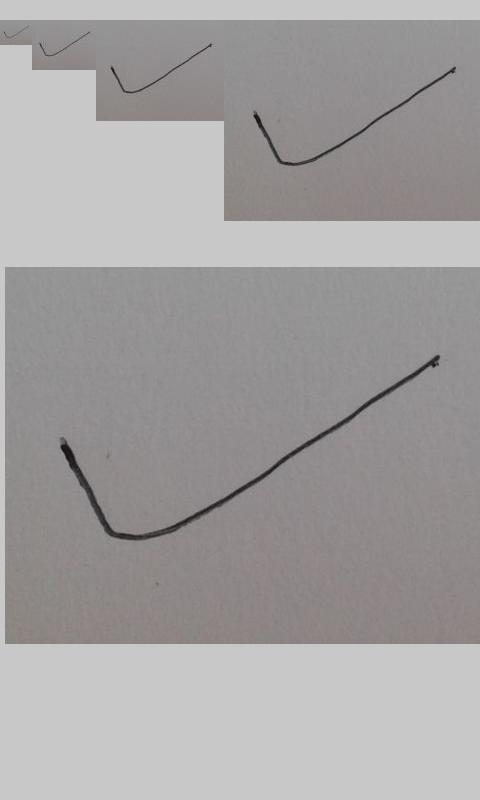check_box: (59, 355, 441, 542), (252, 67, 456, 167), (111, 43, 212, 94), (40, 32, 89, 57), (4, 25, 30, 39)
